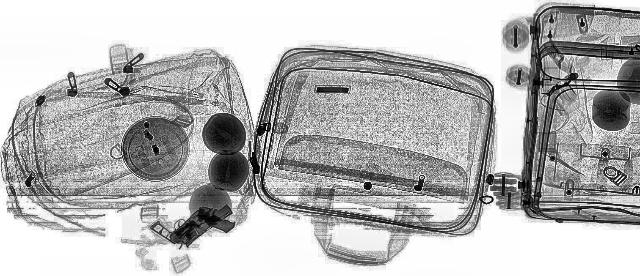Gun: (134, 197, 238, 248), (154, 204, 252, 250)
